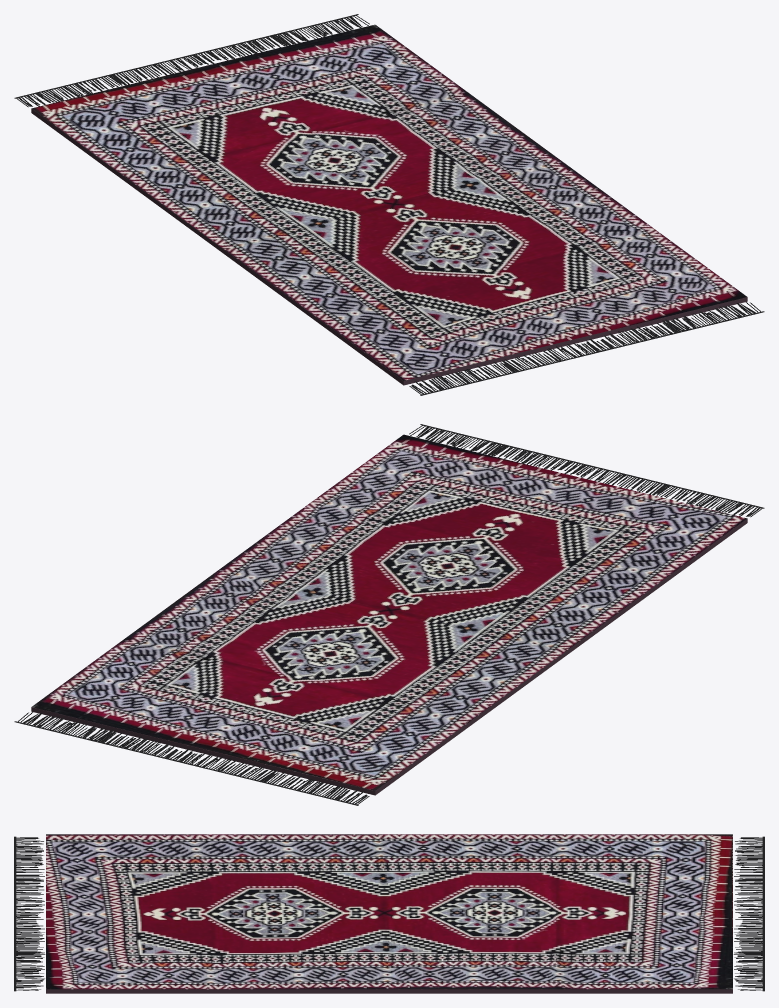
3 renders of one model, top to bottom at view 1: azimuth 30°, elevation 25°; view 2: azimuth 150°, elevation 25°; view 3: azimuth 270°, elevation 25°, orthographic. The views are drawn at different scales.
Visible parts, largest first — view 1: rug, fringeB, fringeA, side; view 2: rug, fringeA, fringeB, side; view 3: rug, fringeB, fringeA, side.
Part boxes in pixels (bbox=[...]): rug: bbox=[31, 24, 746, 380]; fringeB: bbox=[409, 302, 764, 395]; fringeA: bbox=[14, 14, 369, 107]; side: bbox=[31, 108, 747, 385]; rug: bbox=[32, 434, 747, 790]; fringeA: bbox=[14, 712, 369, 805]; fringeB: bbox=[409, 424, 764, 517]; side: bbox=[31, 518, 747, 795]; rug: bbox=[46, 834, 732, 989]; fringeB: bbox=[14, 836, 45, 991]; fringeA: bbox=[733, 836, 764, 991]; side: bbox=[46, 989, 732, 993].
Size of what is drawn, in the model's own units: 0.8 by 0.0102 by 1.64.
2 materials, 2 textured.
